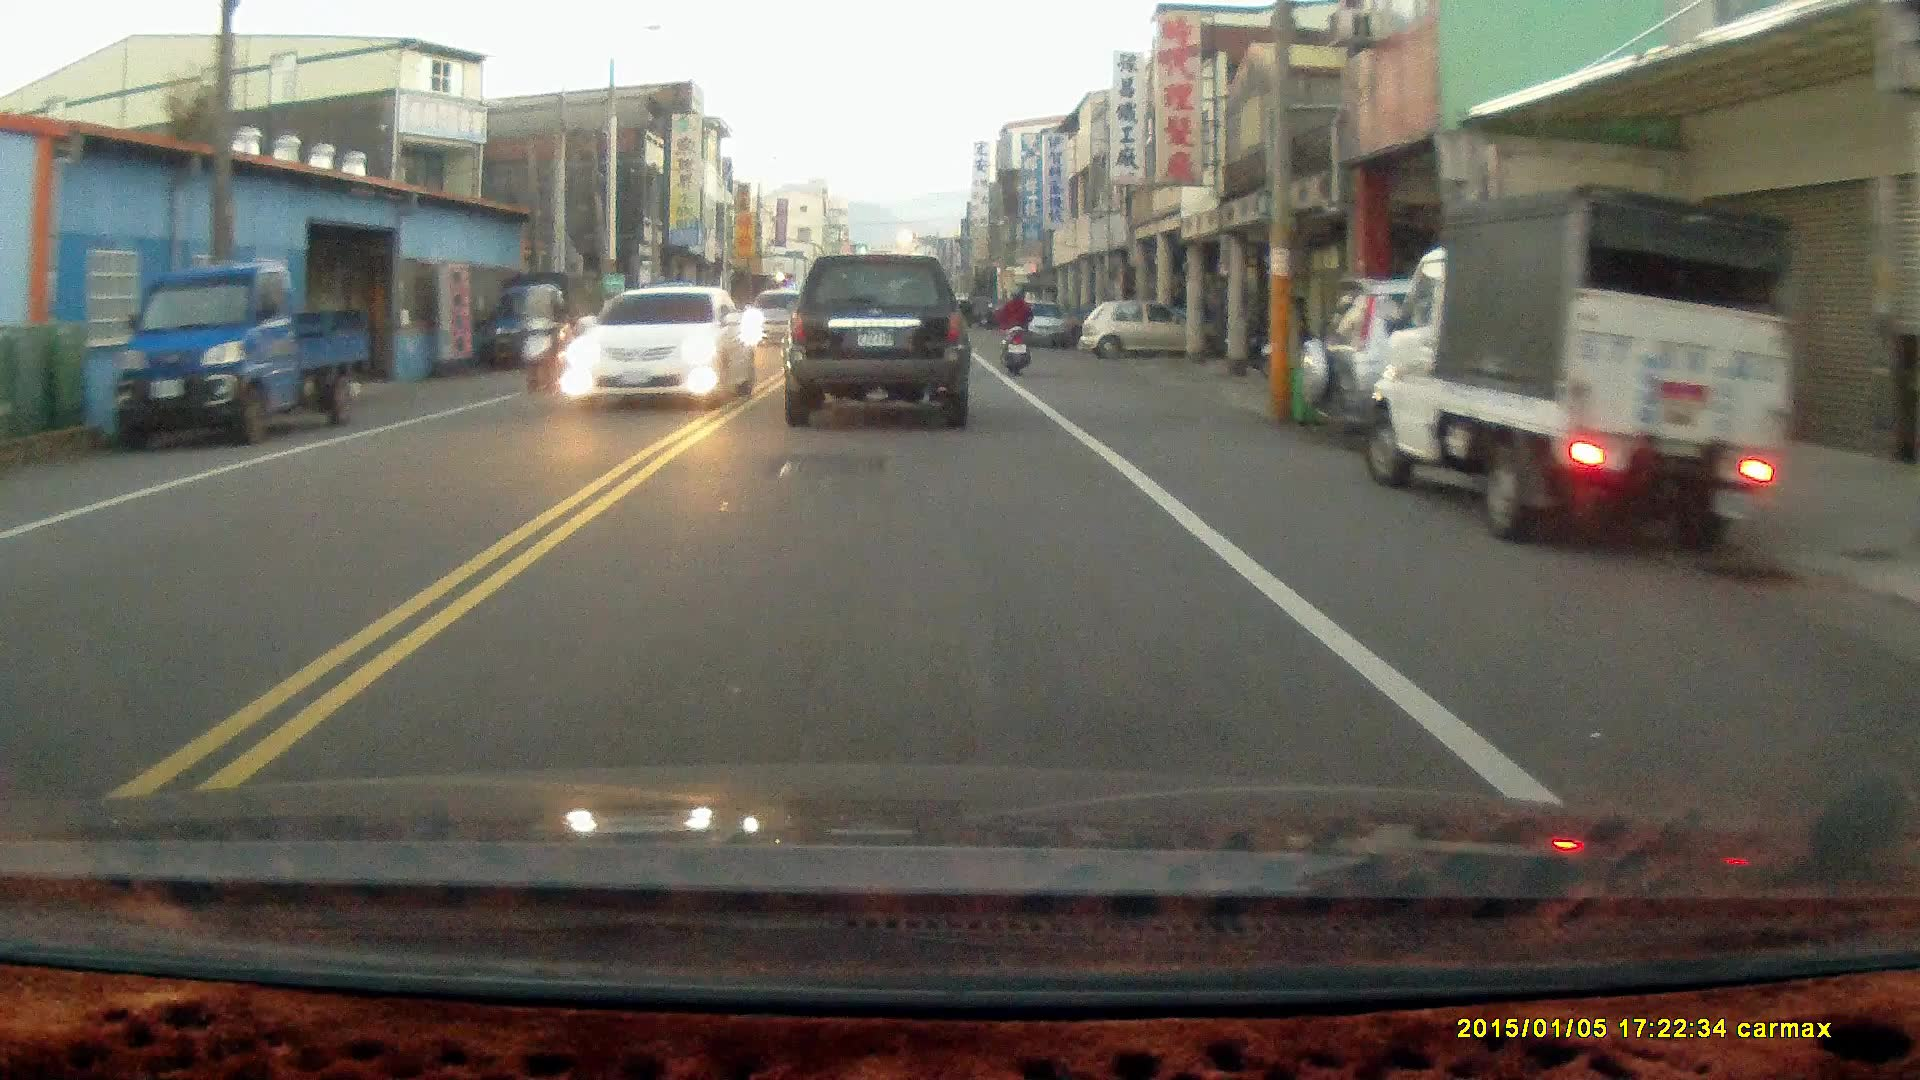rider: (516, 285, 572, 391), (996, 278, 1033, 373)
vehicle: (1369, 179, 1800, 563), (1299, 276, 1697, 443), (96, 263, 375, 451), (781, 250, 977, 428), (558, 284, 763, 409), (481, 271, 605, 373), (1080, 297, 1187, 357)
